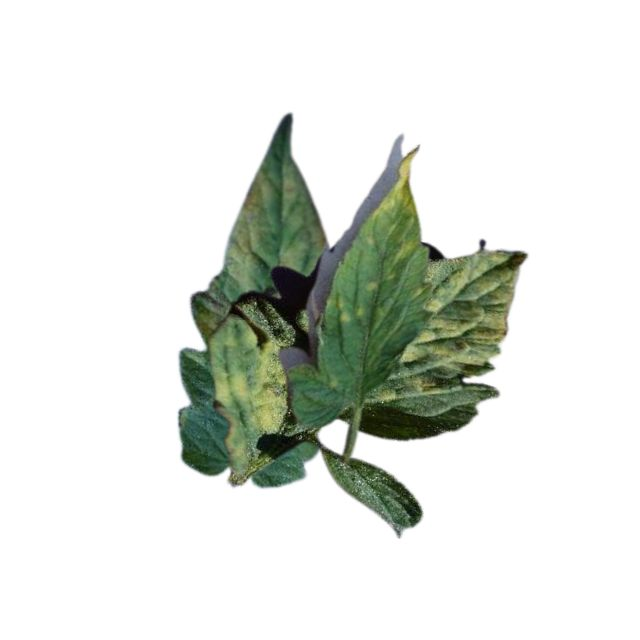Leaf_Mold: (396, 252, 526, 397), (223, 166, 327, 293), (214, 330, 289, 477), (361, 146, 422, 256)
